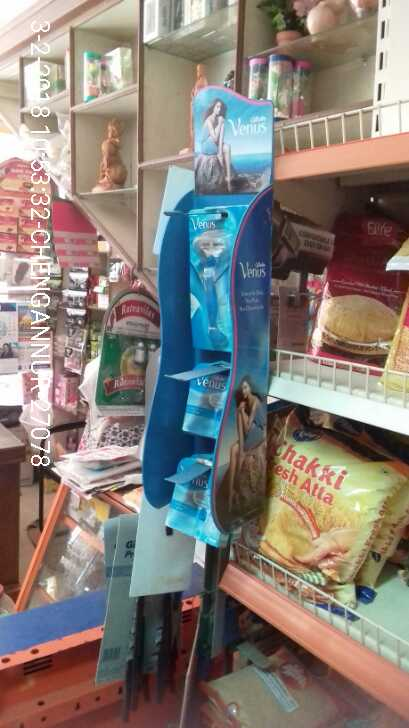venus: (185, 206, 246, 352), (164, 446, 225, 543), (182, 362, 231, 435)
